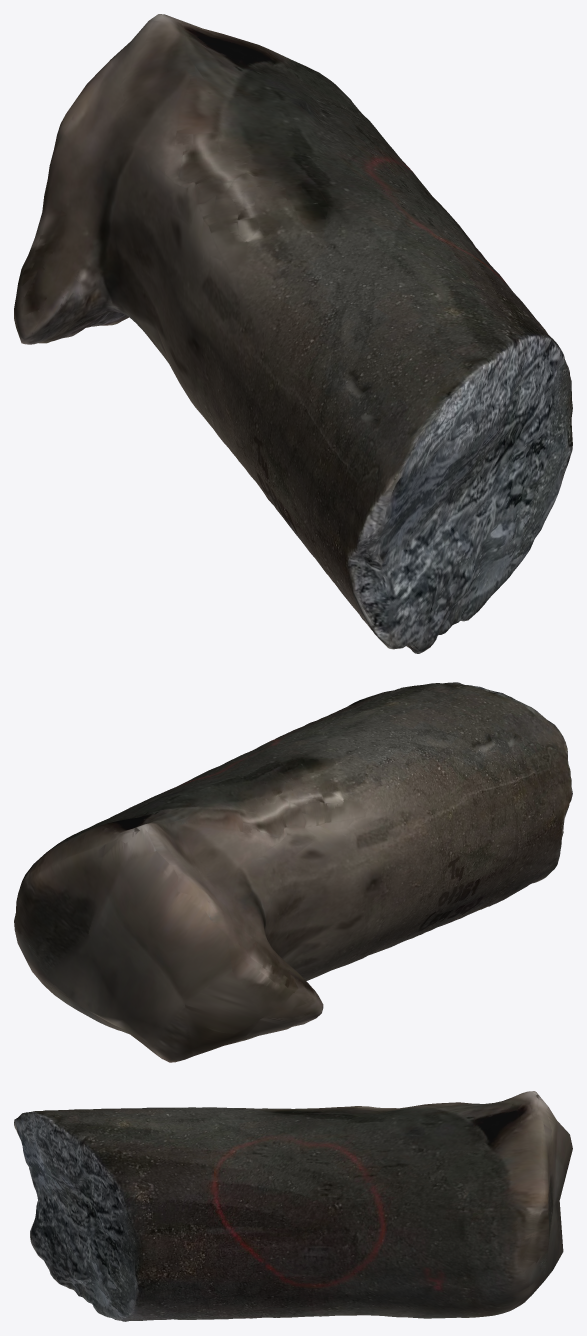
The model's file is PECLD07757 T4.glb.
3 views of the same model, one above another, from view 1: azimuth 30°, elevation 25°; view 2: azimuth 150°, elevation 25°; view 3: azimuth 270°, elevation 25° (orthographic). The views are drawn at different scales.
Parts seen in each view (by area): view 1: baked_mesh; view 2: baked_mesh; view 3: baked_mesh.
Boxes of the visible parts, box(x1,y1,x2,y2) form: baked_mesh: box(14, 14, 572, 653); baked_mesh: box(14, 682, 572, 1062); baked_mesh: box(14, 1091, 572, 1321).
Size of the model in its own units: 0.2979 by 0.2701 by 0.5923.
1 material, 1 textured.
